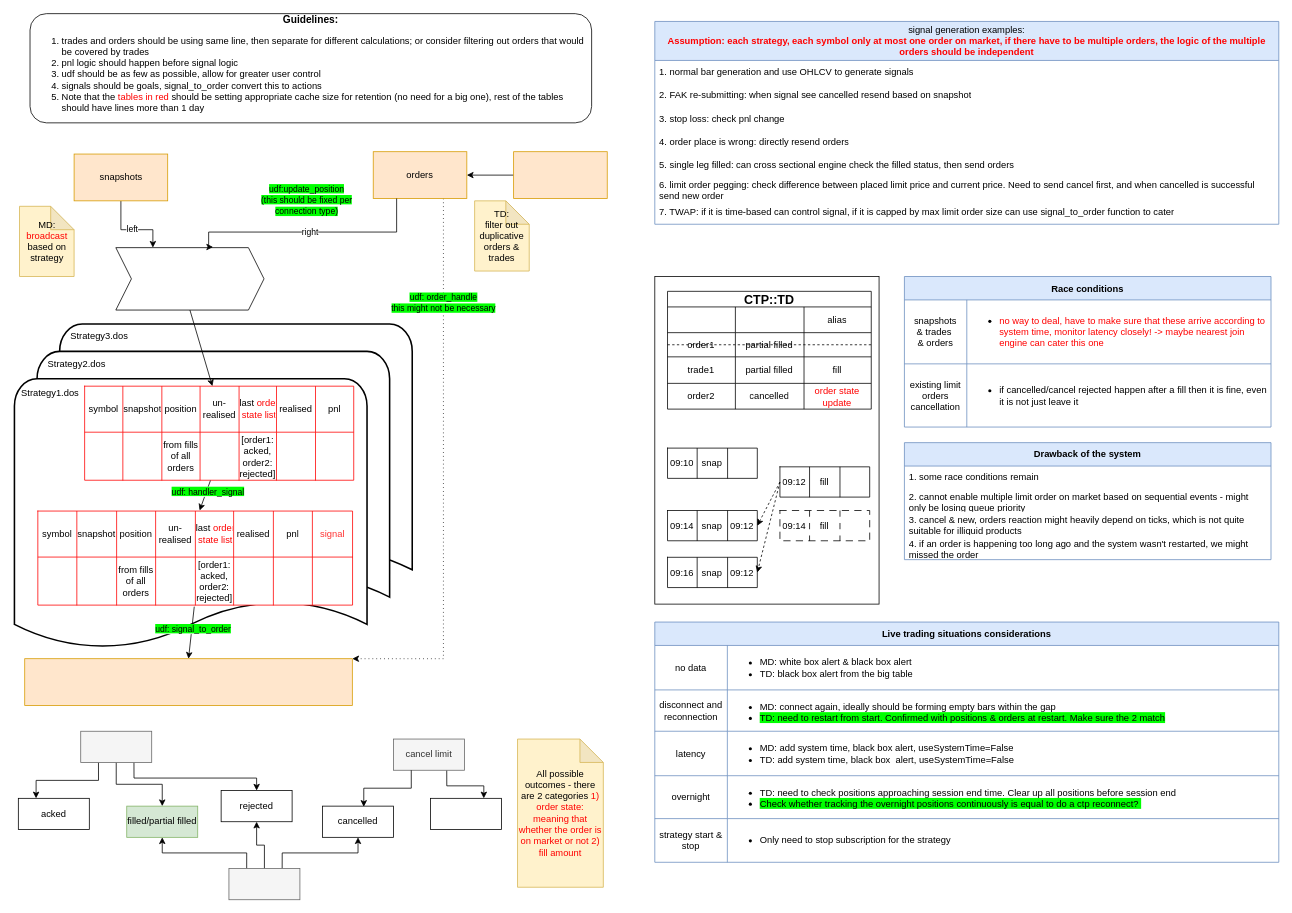
Some shapes in this 1292 by 913 pixel diagram are drawn without their labels. Here are the shapes that lost their labels. From the top down, the centre of each, then its label:
At point (560, 175): "trades".
At point (189, 278): "lookupjoin/ nearestjoin: on strategy, symbol, and maybe offset".
At point (188, 682): "send orders".
At point (116, 746): "new limit".
At point (466, 814): "cancel rejected".
At point (264, 884): "new FAK".
